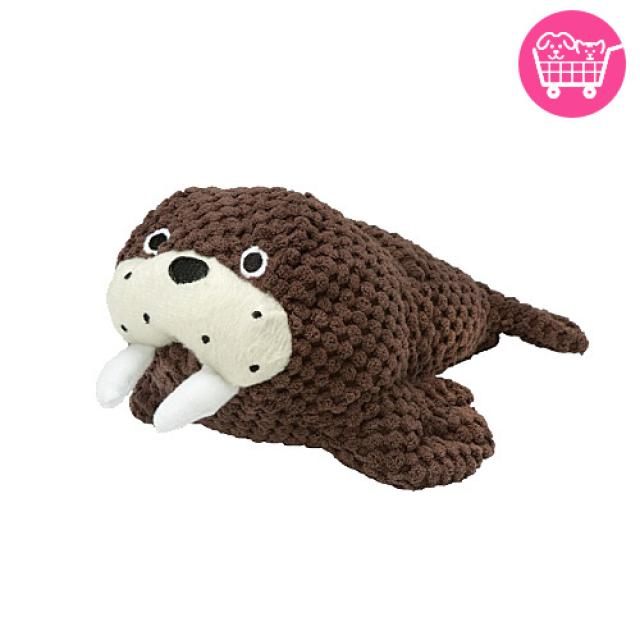walrus: (65, 119, 550, 499)
